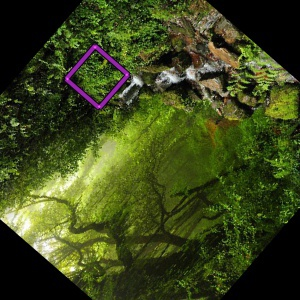square: (61, 42, 133, 111)
